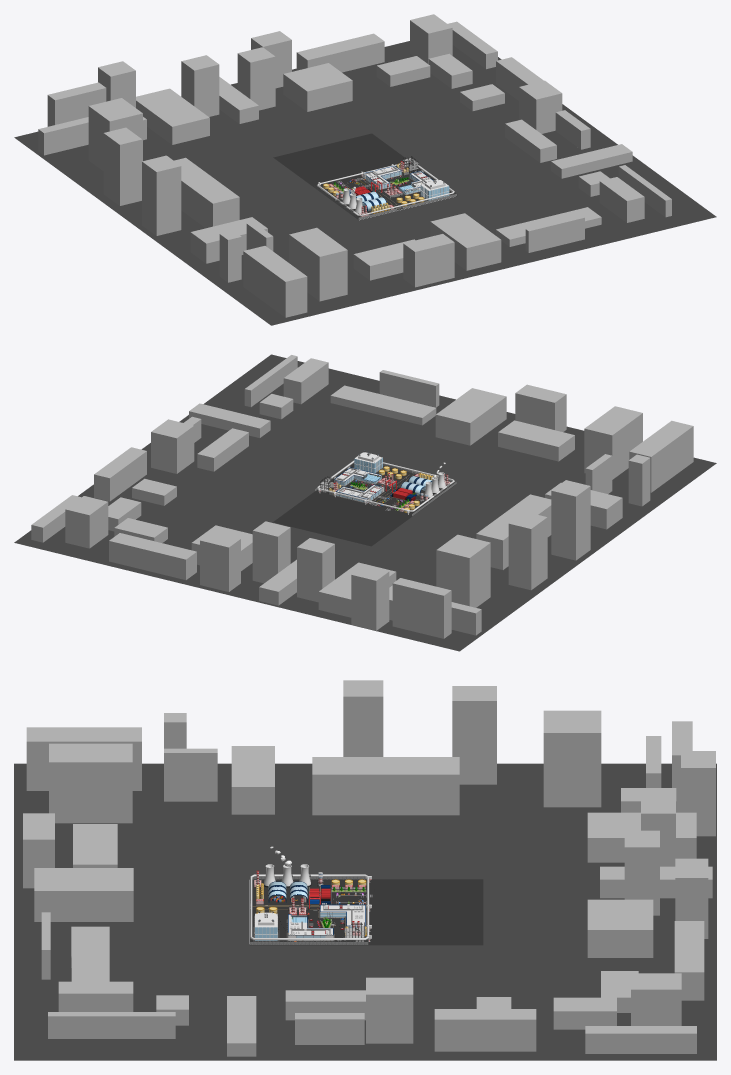
Rendered from env-company-itdepartment.glb.
3 renders of one model, top to bottom at view 1: azimuth 30°, elevation 25°; view 2: azimuth 150°, elevation 25°; view 3: azimuth 270°, elevation 25°, orthographic. The views are drawn at different scales.
Parts seen in each view (by area): view 1: background, env_industry_main, building_office, pipe2; view 2: background, env_industry_main, building_office, pipe2, building_office.002, Cube.095; view 3: background, env_industry_main, pipe2, building_office, building_office.002, Cube.095.
Boxes of the visible parts, box(x1,y1,x2,y2) form: background: box(14, 14, 716, 325); env_industry_main: box(273, 133, 457, 219); building_office: box(362, 165, 402, 190); pipe2: box(317, 163, 454, 215); background: box(14, 354, 716, 651); env_industry_main: box(273, 462, 456, 546); building_office: box(335, 483, 385, 503); pipe2: box(317, 460, 454, 511); building_office.002: box(333, 466, 381, 486); Cube.095: box(353, 451, 383, 473); background: box(14, 680, 716, 1060); env_industry_main: box(249, 876, 483, 945); pipe2: box(250, 874, 369, 940); building_office: box(318, 903, 366, 928); building_office.002: box(286, 914, 335, 941); Cube.095: box(253, 911, 279, 941).
Size of the model in its own units: 910 by 127 by 910.
15 materials, 13 textured.
